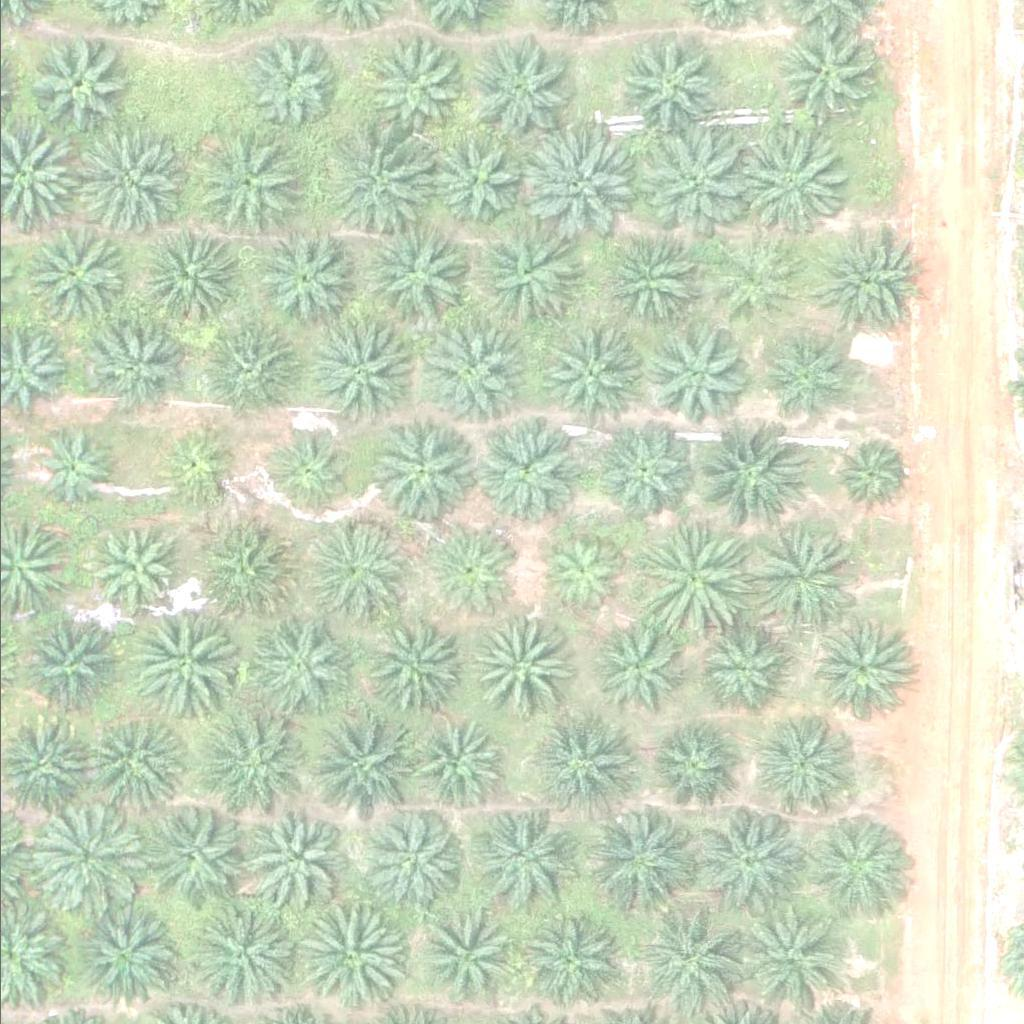Kelapa_Sawit: (735, 127, 849, 240), (318, 124, 432, 237), (182, 128, 296, 241), (684, 417, 798, 530), (585, 799, 699, 912), (516, 123, 629, 236), (71, 121, 184, 234), (470, 221, 583, 334), (807, 225, 920, 338), (736, 527, 849, 640), (129, 599, 242, 712), (691, 798, 804, 911), (291, 898, 404, 1011), (736, 900, 849, 1013), (632, 527, 746, 639), (473, 806, 587, 918), (629, 129, 742, 241), (360, 221, 473, 333), (417, 319, 530, 431), (302, 315, 415, 427), (302, 519, 415, 631), (302, 708, 415, 820), (800, 812, 913, 924), (30, 799, 143, 911), (187, 900, 300, 1012), (632, 903, 745, 1015), (26, 36, 127, 136), (233, 31, 334, 131), (358, 34, 459, 134), (466, 42, 567, 142), (616, 36, 717, 136), (775, 23, 876, 123), (419, 127, 520, 227), (138, 232, 239, 332), (255, 232, 356, 332), (600, 230, 701, 330), (535, 321, 636, 421), (191, 316, 292, 416), (82, 321, 183, 421), (371, 419, 472, 519), (195, 531, 296, 631), (805, 619, 906, 719), (460, 614, 561, 714), (248, 613, 349, 713), (19, 604, 120, 704), (88, 707, 189, 807), (188, 717, 289, 817), (533, 713, 634, 813), (754, 717, 855, 817), (361, 811, 462, 911), (245, 808, 346, 908), (80, 906, 181, 1006), (518, 908, 619, 1008), (414, 907, 515, 1007), (25, 228, 125, 328), (643, 332, 743, 432), (595, 419, 695, 519), (474, 421, 574, 521), (363, 619, 463, 719), (139, 801, 239, 901), (758, 334, 846, 422), (156, 425, 244, 513), (269, 425, 357, 513), (88, 520, 176, 608), (536, 534, 624, 622), (706, 238, 795, 325), (24, 420, 112, 507), (425, 529, 513, 616), (697, 623, 785, 710), (590, 627, 678, 714), (416, 718, 504, 805), (655, 721, 743, 808), (830, 437, 905, 512)
